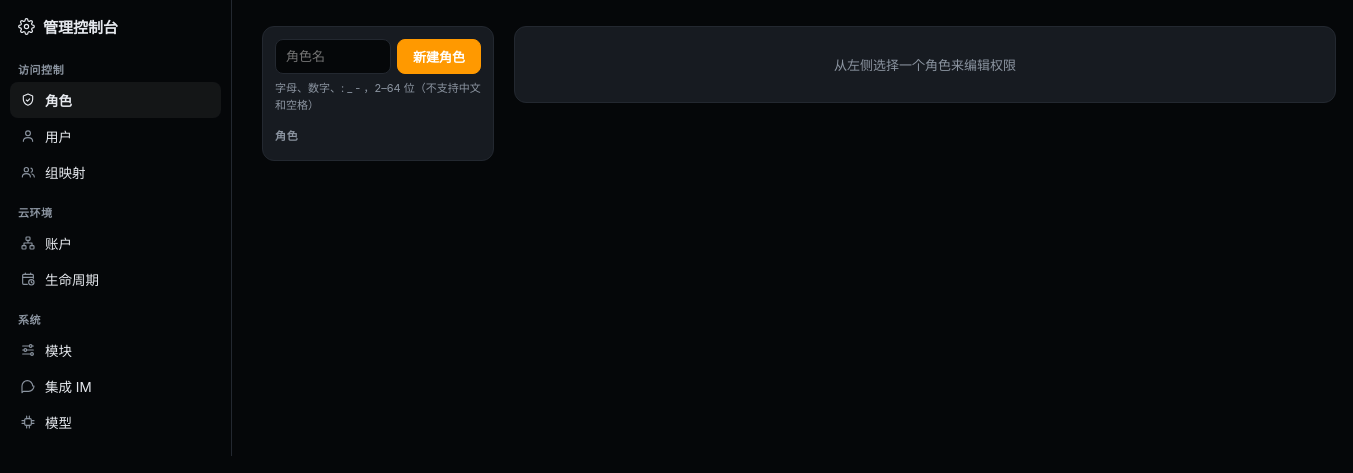
Test: 用户列表：邮箱一列 + 重置密码 + 设邮箱 › 有已验证邮箱显示邮箱，没有的标「未绑定邮箱」
Click the button with class "notif-navitem" showing "用户" at (116, 136), box [10,118,221,154]
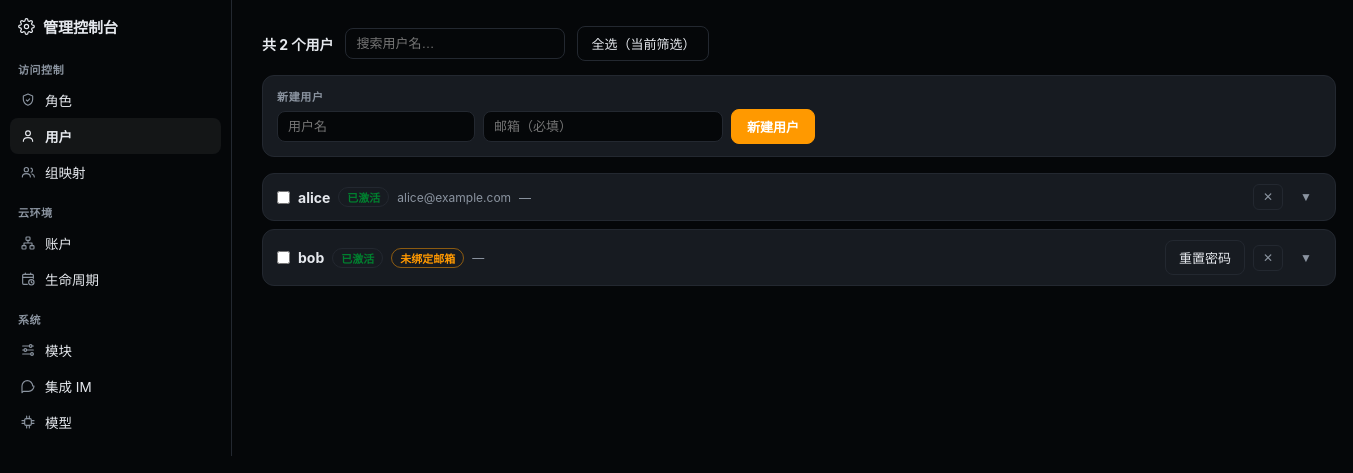
Result: the text "bob" is shown at [298,249,324,266]
Result: the text "alice@example.com" is shown at [397,190,511,204]
